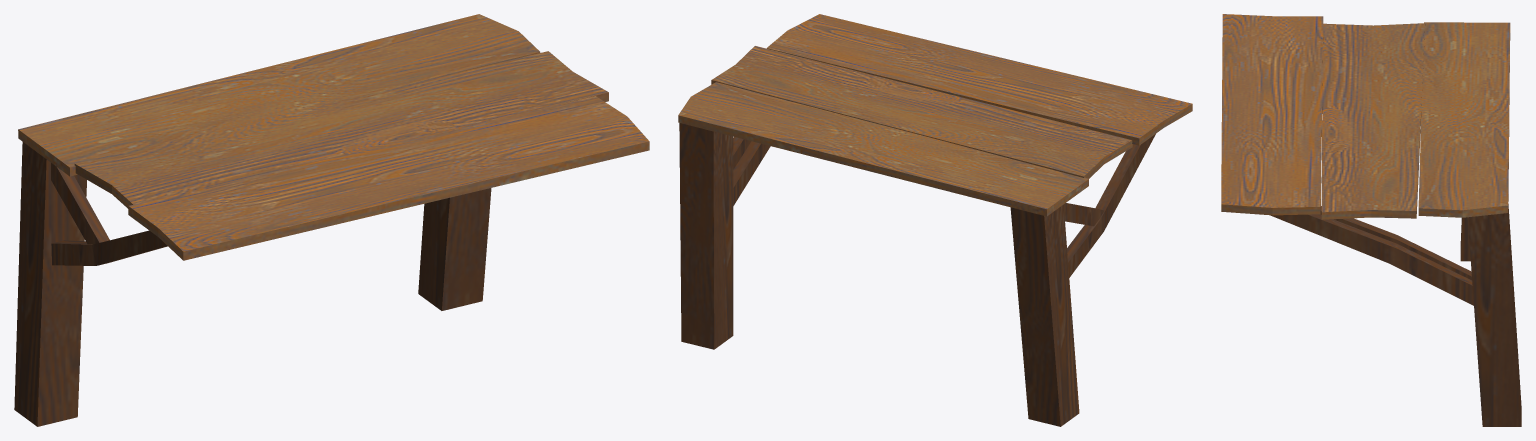
Rendered from Ramp.fbx.
3 views of the same model, side by side, from view 1: azimuth 30°, elevation 25°; view 2: azimuth 150°, elevation 25°; view 3: azimuth 270°, elevation 25° (orthographic). The views are drawn at different scales.
Parts seen in each view (by area): view 1: Ramp/Platform; view 2: Ramp/Platform; view 3: Ramp/Platform.
Part boxes in pixels (left/top/right/bottom): Ramp/Platform: left=14, top=14, right=649, bottom=426; Ramp/Platform: left=678, top=14, right=1192, bottom=426; Ramp/Platform: left=1221, top=14, right=1521, bottom=426.
Bounding box in the file's own units: 366 × 200 × 235.
